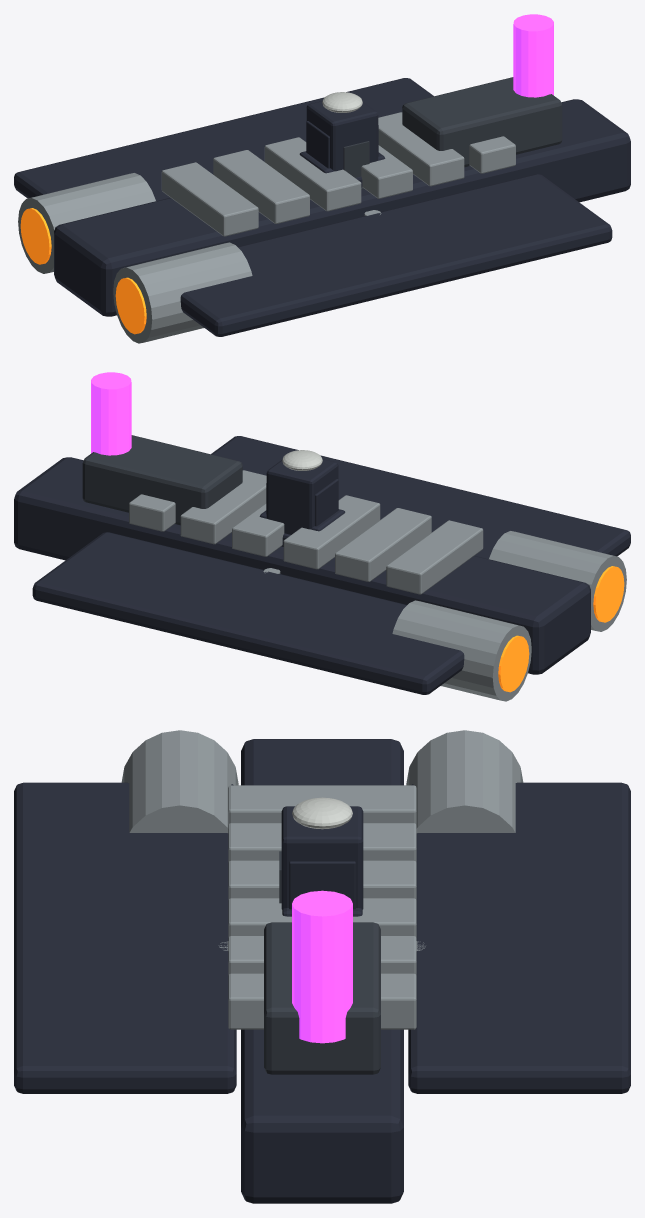
The model's file is starter-coast-story-kit-authored-v2.glb.
3 renders of one model, top to bottom at view 1: azimuth 30°, elevation 25°; view 2: azimuth 150°, elevation 25°; view 3: azimuth 270°, elevation 25°, orthographic. The views are drawn at different scales.
Parts seen in each view (by area): view 1: Carrier__flight_deck.001, Carrier__spine, Carrier__flight_deck, Carrier__command_deck, Carrier__main_engine.001, Carrier__main_engine, Carrier__armor_module.001, Carrier__armor_module.002, Carrier__armor_module.003, Carrier__core_tower, Carrier__armor_module.005, Warden_Core__armor (+7 smaller); view 2: Carrier__flight_deck, Carrier__spine, Carrier__flight_deck.001, Carrier__command_deck, Carrier__main_engine, Carrier__main_engine.001, Carrier__armor_module.001, Carrier__armor_module.002, Carrier__armor_module.003, Warden_Core__armor, Carrier__core_tower, Carrier__armor_module.005 (+6 smaller); view 3: Carrier__flight_deck, Carrier__flight_deck.001, Carrier__spine, Carrier__command_deck, Carrier__main_engine.001, Carrier__main_engine, Carrier__core_tower, Carrier__armor_module.001, Warden_Core__armor, Carrier__armor_module.003, Carrier__armor_module, Carrier__armor_module.002 (+4 smaller).
Part boxes in pixels (x1,y1,x2,y2): Carrier__flight_deck.001: (180, 174, 612, 336); Carrier__spine: (54, 99, 630, 316); Carrier__flight_deck: (14, 78, 433, 200); Carrier__command_deck: (402, 77, 562, 167); Carrier__main_engine.001: (113, 242, 252, 343); Carrier__main_engine: (18, 173, 155, 273); Carrier__armor_module.001: (161, 162, 258, 236); Carrier__armor_module.002: (213, 150, 309, 223); Carrier__armor_module.003: (264, 137, 361, 211); Carrier__core_tower: (513, 14, 553, 97); Carrier__armor_module.005: (378, 112, 464, 186); Warden_Core__armor: (306, 101, 378, 171); Carrier__flight_deck: (32, 532, 464, 694); Carrier__spine: (14, 457, 590, 674); Carrier__flight_deck.001: (211, 436, 630, 558); Carrier__command_deck: (82, 435, 242, 525); Carrier__main_engine: (392, 600, 531, 701); Carrier__main_engine.001: (489, 531, 626, 631); Carrier__armor_module.001: (386, 520, 483, 594); Carrier__armor_module.002: (335, 508, 431, 581); Carrier__armor_module.003: (283, 495, 380, 569); Warden_Core__armor: (266, 459, 338, 534); Carrier__core_tower: (91, 372, 131, 455); Carrier__armor_module.005: (180, 470, 266, 544); Carrier__flight_deck: (408, 782, 630, 1093); Carrier__flight_deck.001: (14, 782, 236, 1093); Carrier__spine: (241, 739, 403, 1203); Carrier__command_deck: (264, 922, 380, 1074); Carrier__main_engine.001: (121, 730, 238, 832); Carrier__main_engine: (406, 730, 523, 832); Carrier__core_tower: (292, 890, 352, 1043); Carrier__armor_module.001: (228, 785, 416, 824); Warden_Core__armor: (281, 806, 363, 909); Carrier__armor_module.003: (228, 860, 416, 899); Carrier__armor_module: (228, 973, 416, 1029); Carrier__armor_module.002: (228, 823, 416, 862).
Size of the model in its own units: 720 by 226 by 485.
